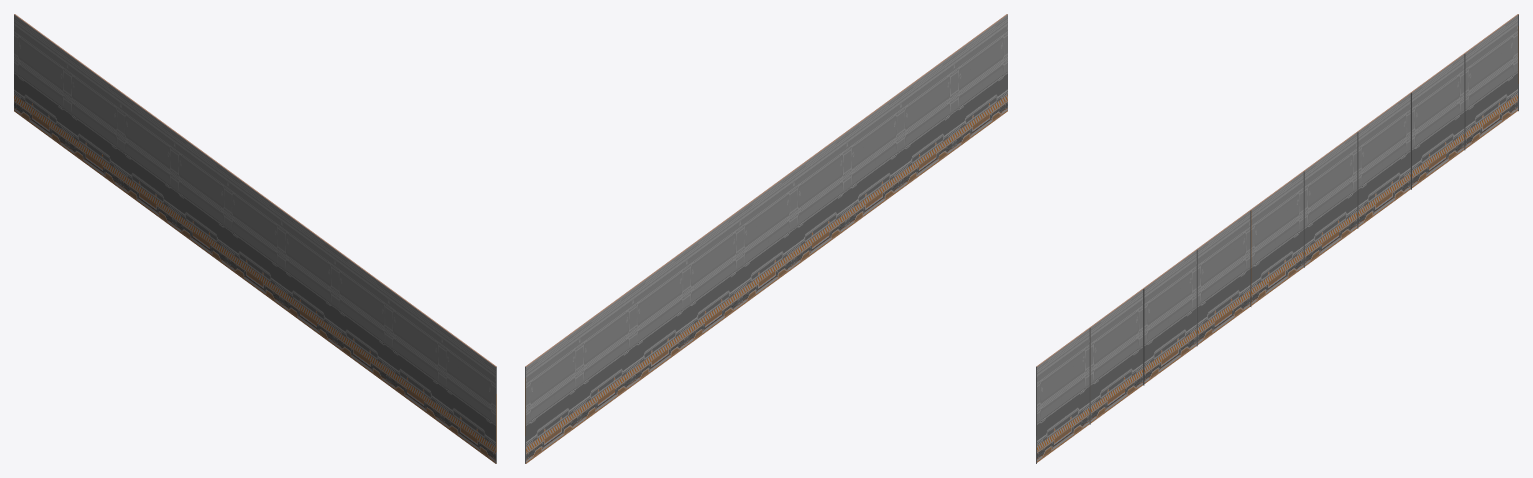
The model's file is Pfb_JALB_WallPart2_Line__42.fbx.
The picture shows the model from 3 angles, left to right: view 1: azimuth 30°, elevation 25°; view 2: azimuth 150°, elevation 25°; view 3: azimuth 330°, elevation 25°; orthographic projection.
Parts seen in each view (by area): view 1: MAT_JLABWall03; view 2: MAT_JLABWall03; view 3: MAT_JLABWall03.
Boxes of the visible parts, bbox=[...] form: MAT_JLABWall03: bbox=[14, 14, 496, 463]; MAT_JLABWall03: bbox=[525, 14, 1007, 463]; MAT_JLABWall03: bbox=[1036, 14, 1518, 463].
Size of the model in its own units: 0.0488 by 4 by 36.
Materials: 1 (1 with a texture image).
